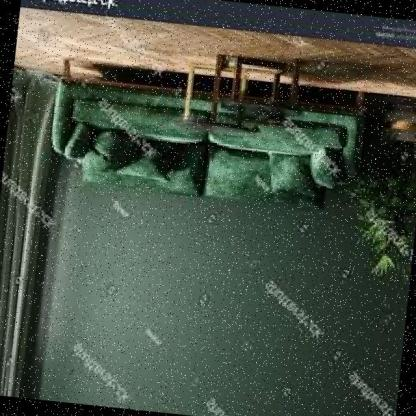Sofa: (31, 39, 390, 235)
